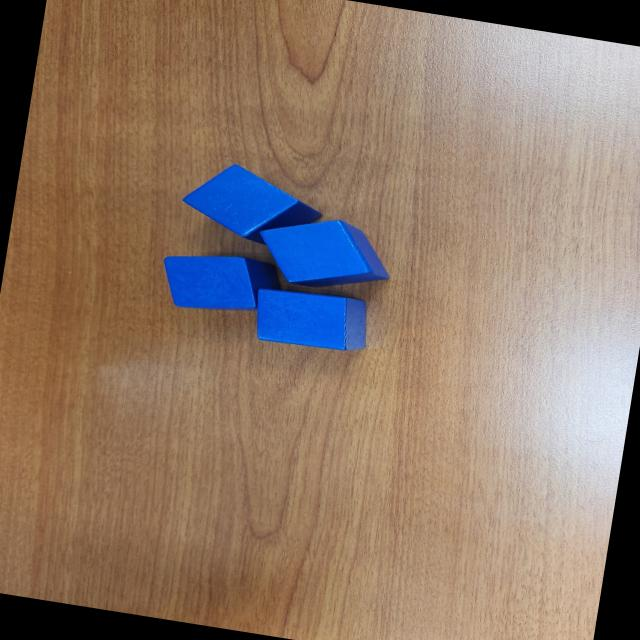blue: (173, 156, 330, 255), (252, 208, 400, 300), (157, 244, 286, 322), (248, 282, 374, 358)
